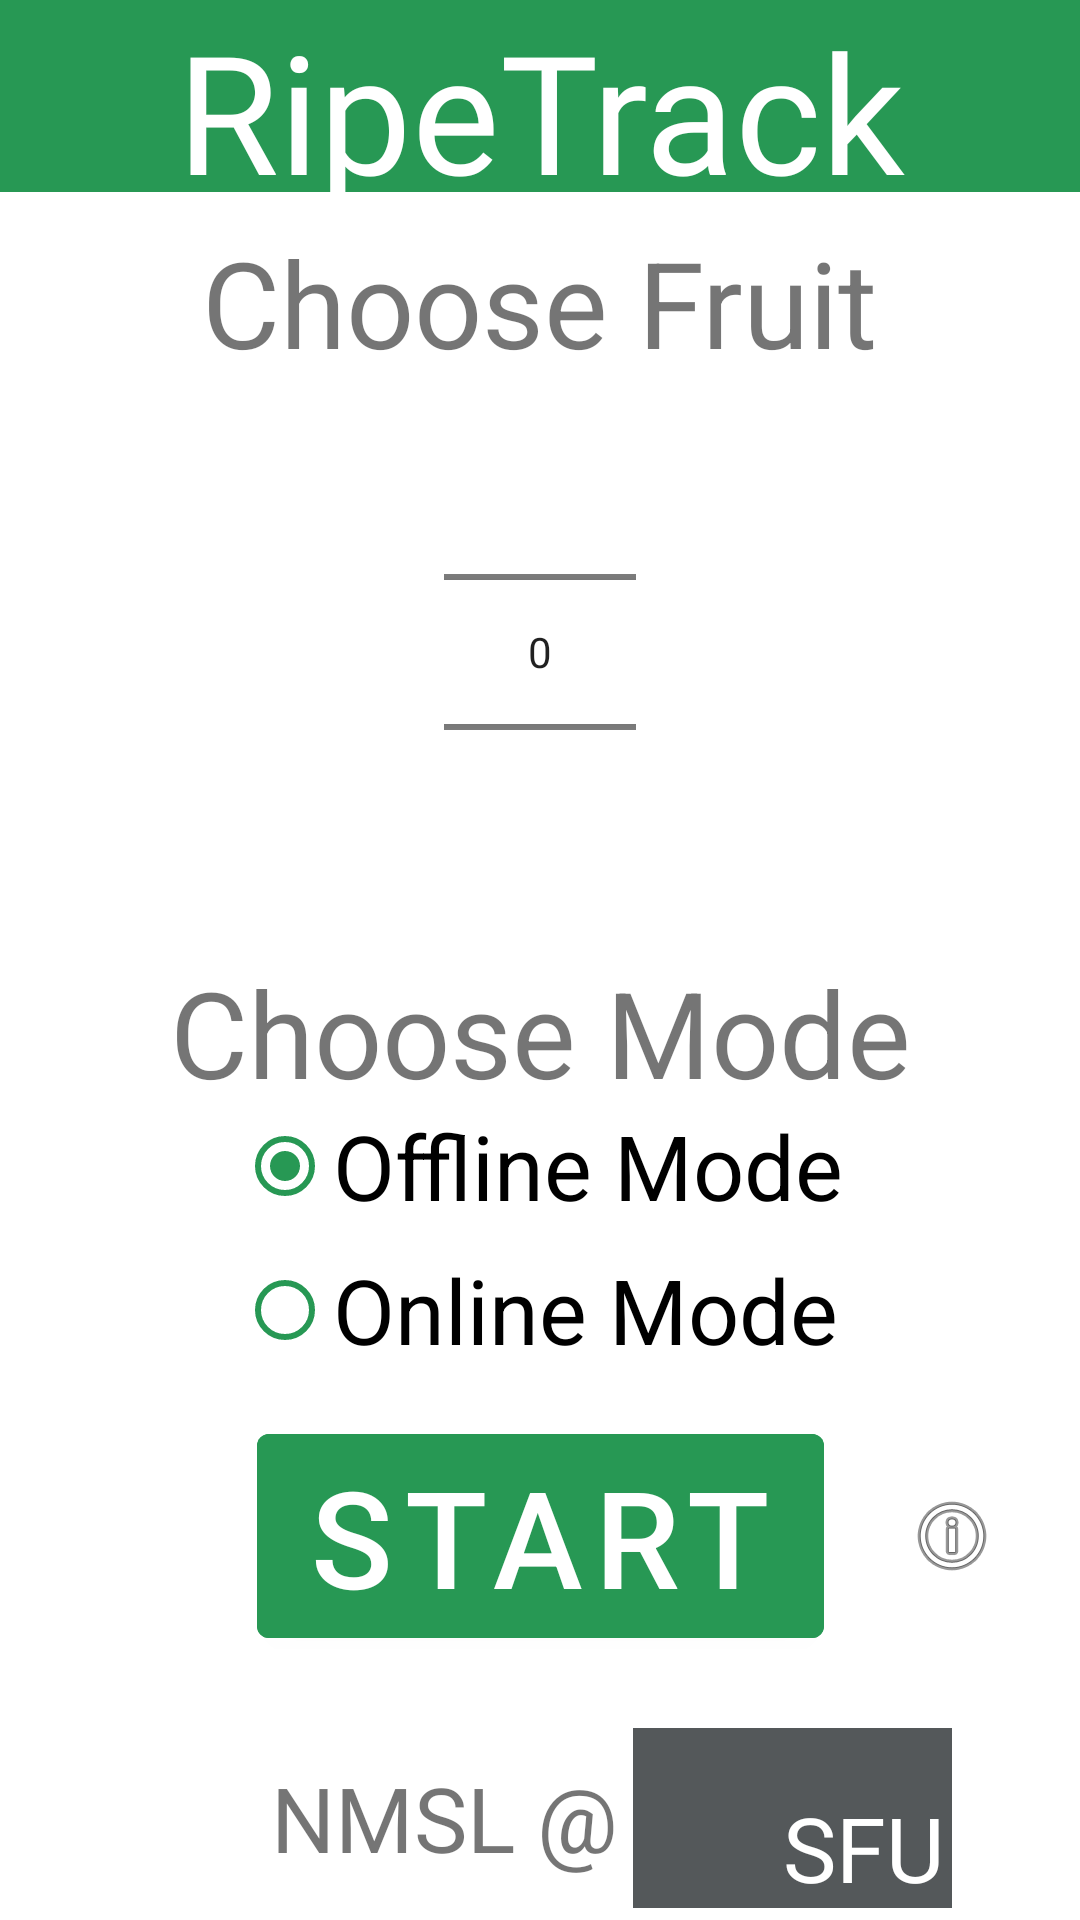

Where icons sit on this 1080 × 1920 app screen, as bbox=(x1, y1, x2, y2):
Show information regarding the fragment: bbox=(917, 1501, 987, 1571)
